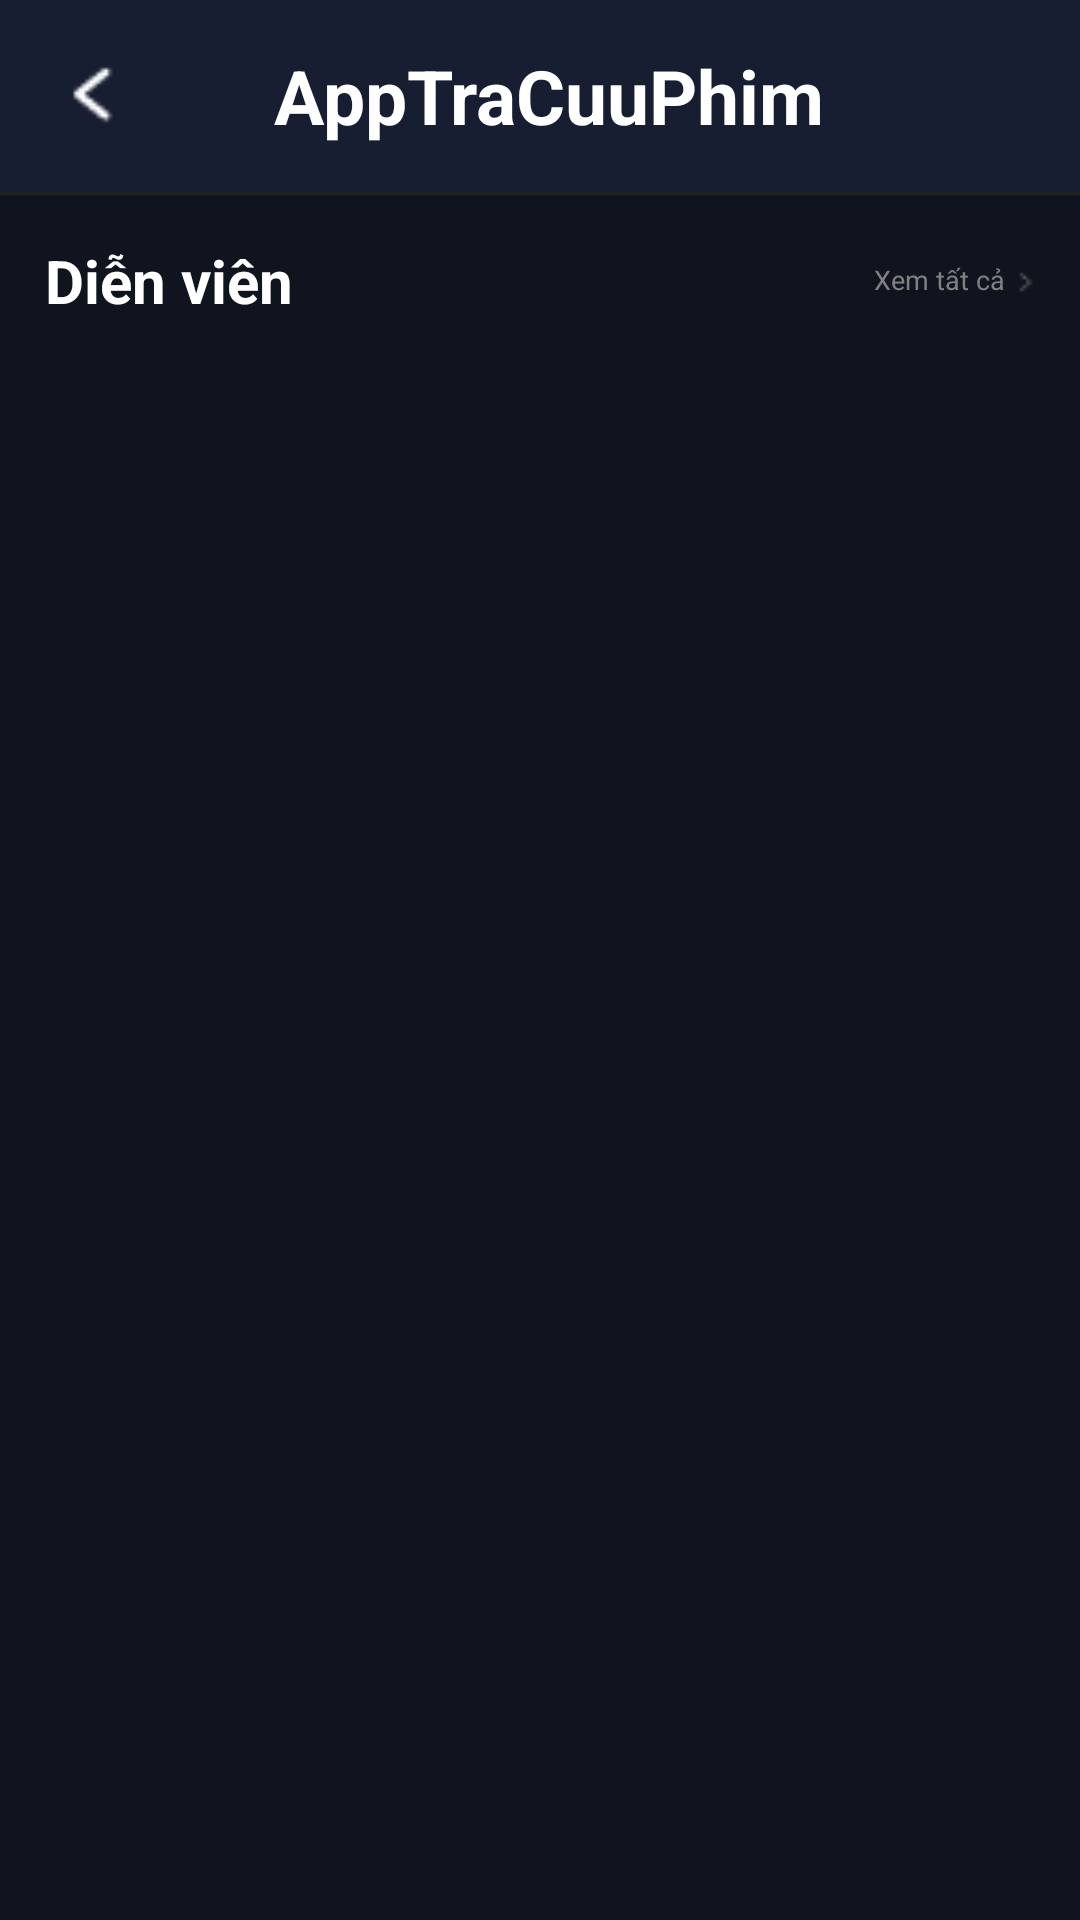

Where icons sit on this 1080×1920 app screen, as detection(x1, y1, x2, y2):
arrow left: detection(73, 67, 112, 122)
